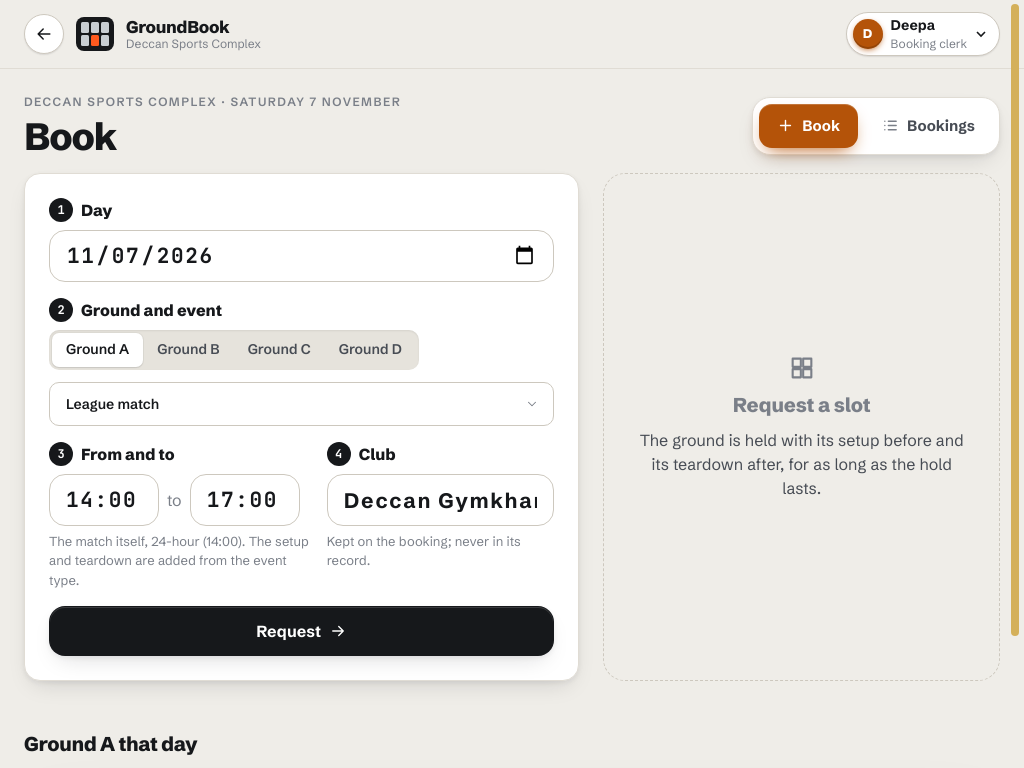
Test case: F-05 · A club asks for a slot › the event-type drop-down lists the six types with their minutes, League match ticked, and a pick closes it
This screenshot has width=1024, height=768.
Check: the button "Ground A" is shown, box [52,333,143,367]
Check: the text "League match" is shown, box [66,395,159,413]
Click the button with aria-label "Event type": point(113, 404) [49,382,554,426]
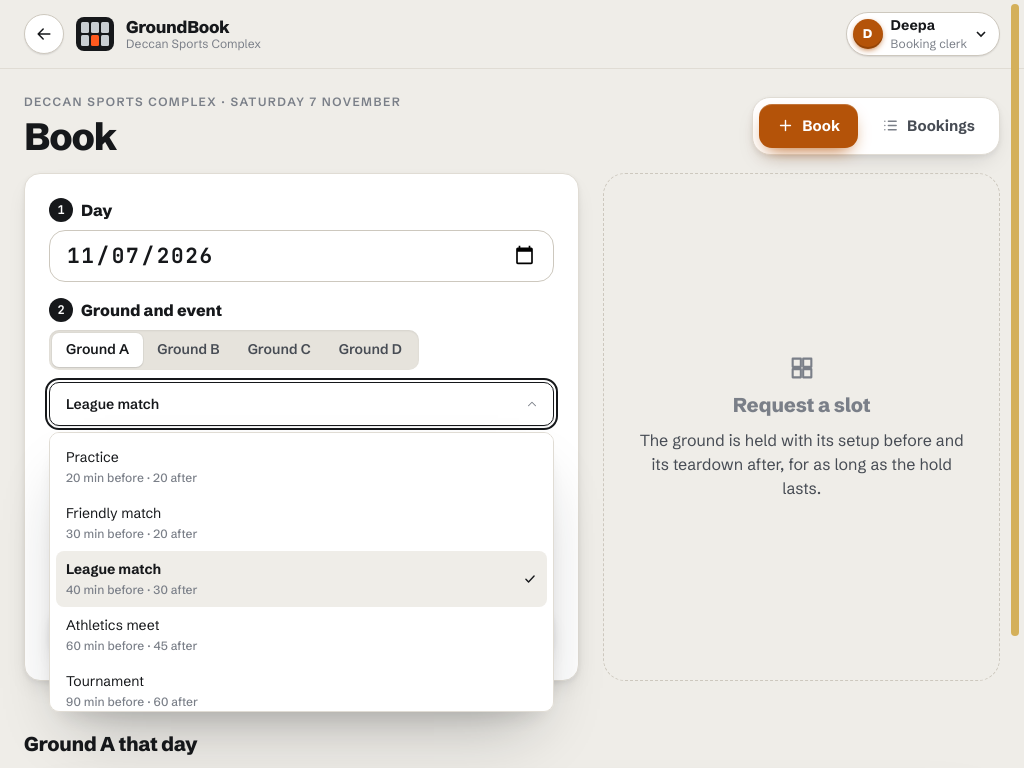
Check: the text "Practice" is shown, box [66,448,119,466]
Check: the text "20 min before · 20 after" is shown, box [66,469,197,487]
Check: the text "Friendly match" is shown, box [66,504,161,522]
Click the option "Practice 20 min before · 20 after": point(92, 457) [66,448,197,485]
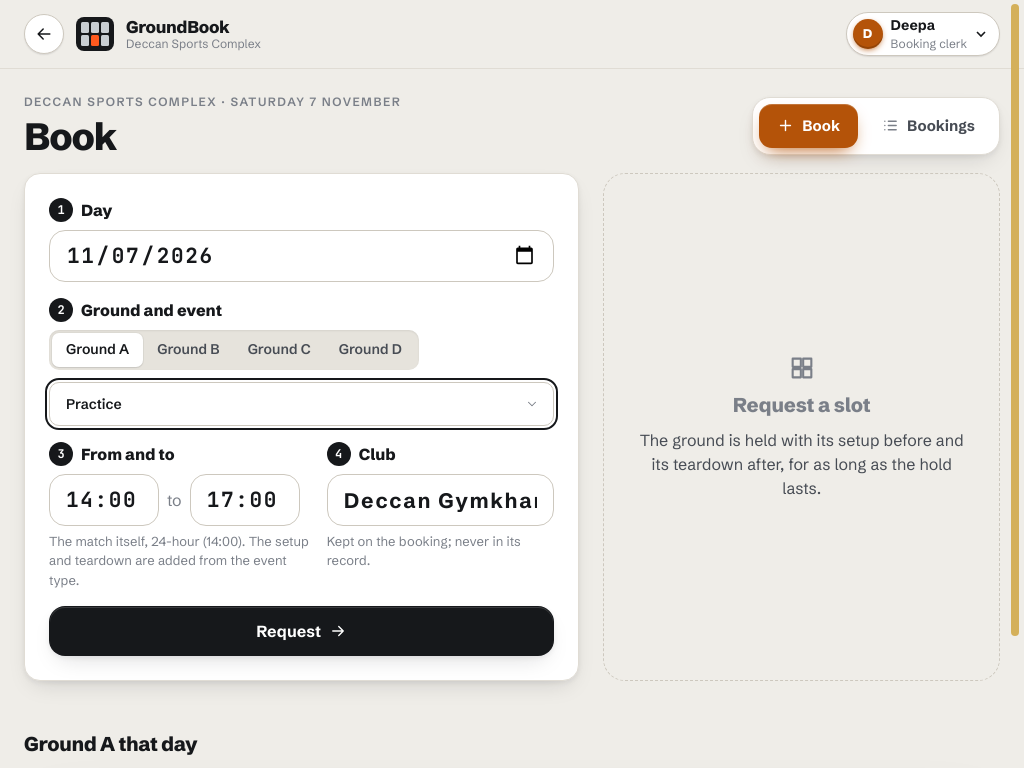
Check: the list is gone
Check: the text "Practice" is shown, box [66,395,122,413]
